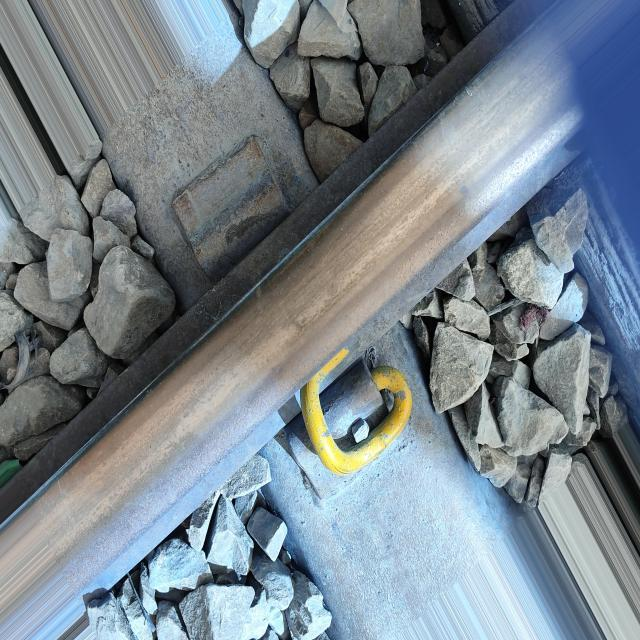Good Fasteners: (277, 350, 412, 500)
Missing Fastener: (172, 136, 293, 282)
